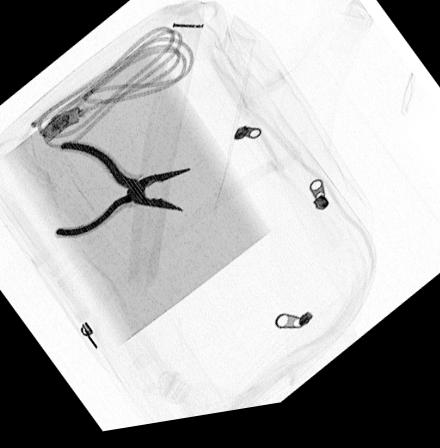Pliers: (51, 141, 193, 241)
